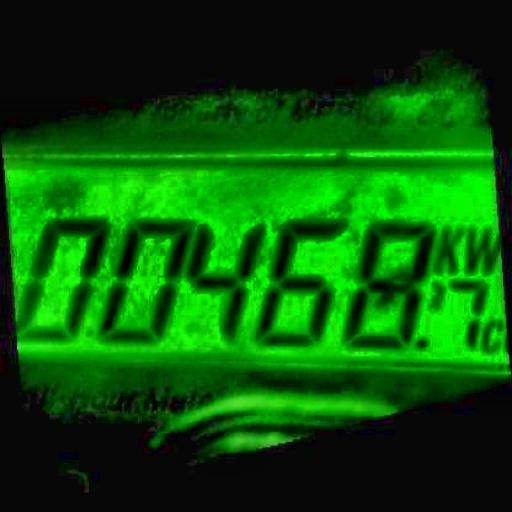DISPLAY_REGION: (1, 144, 512, 374)
SERIAL_REGION: (16, 211, 502, 356)
